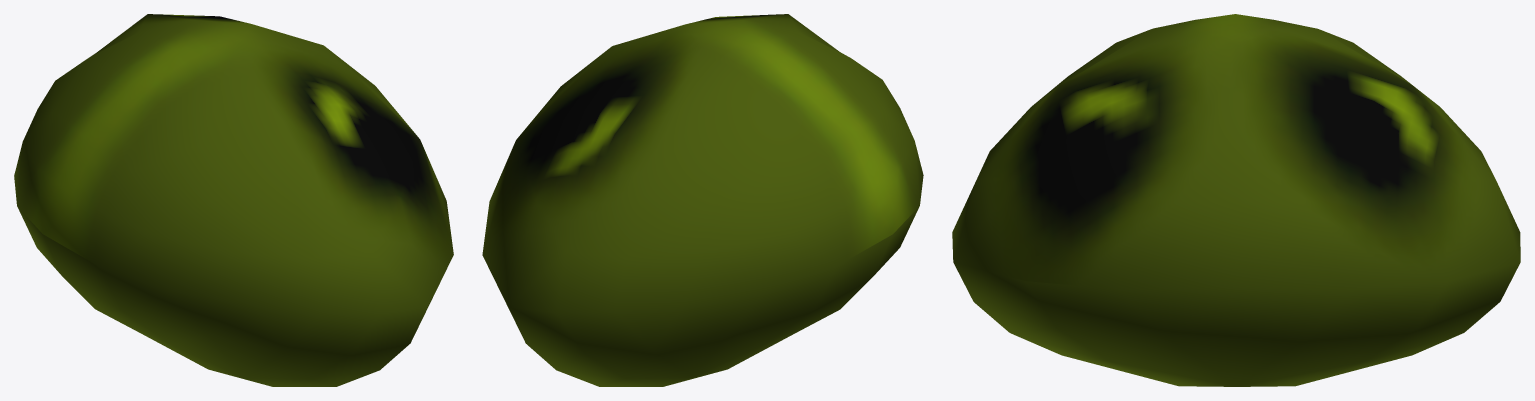
File: ant2.obj
The picture shows the model from 3 angles, left to right: view 1: azimuth 30°, elevation 25°; view 2: azimuth 150°, elevation 25°; view 3: azimuth 270°, elevation 25°; orthographic projection. The views are drawn at different scales.
Visible parts, largest first — view 1: ColobotMesh_1_ColobotMesh_; view 2: ColobotMesh_1_ColobotMesh_; view 3: ColobotMesh_1_ColobotMesh_.
Boxes of the visible parts, <box> form: ColobotMesh_1_ColobotMesh_: <box>14,14,453,386</box>; ColobotMesh_1_ColobotMesh_: <box>482,14,923,386</box>; ColobotMesh_1_ColobotMesh_: <box>952,14,1520,386</box>.
Bounding box in the file's own units: 2.22 × 1.92 × 2.91.
